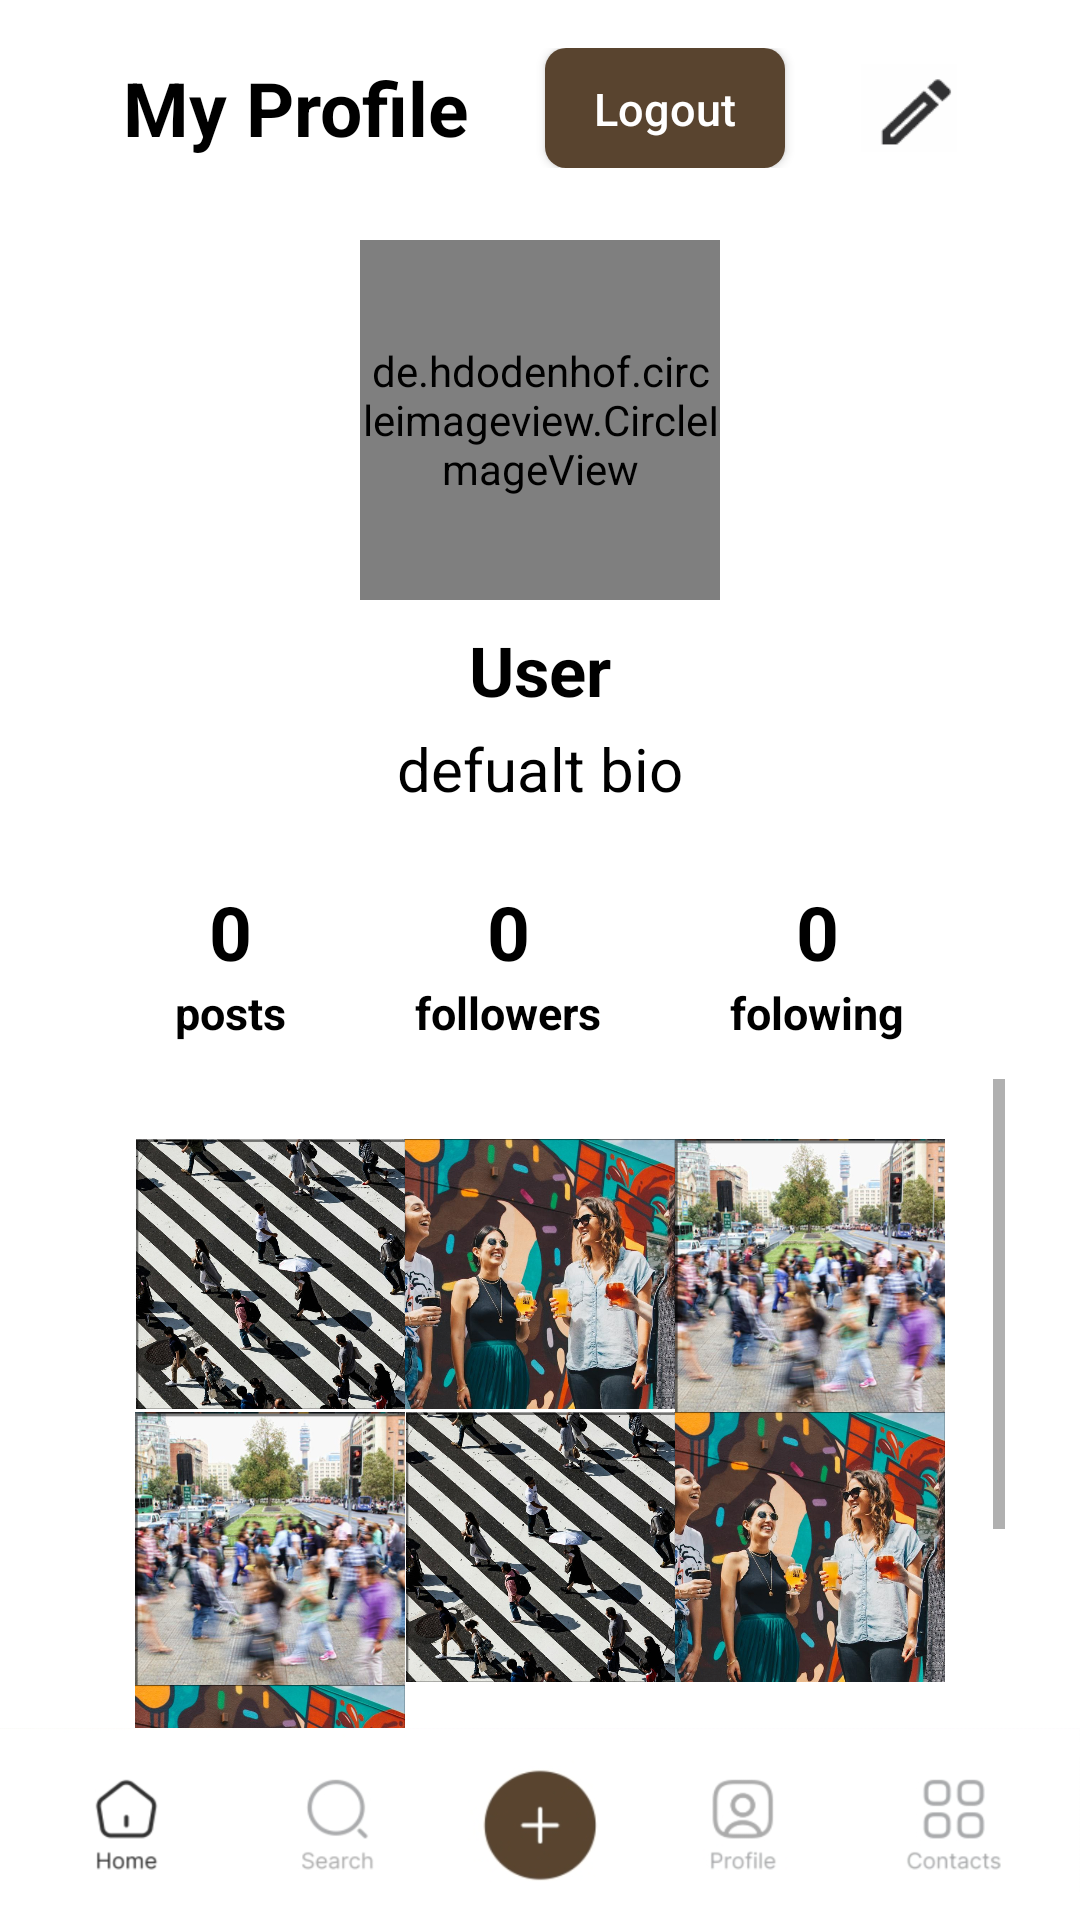

Named icons in this screenshot (1080w x 1920h) and their centers, [x,y]:
edit: [916,112]
